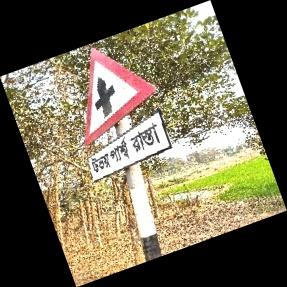Crossroad: (83, 46, 171, 186)
